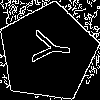Y: (22, 27, 72, 67)
